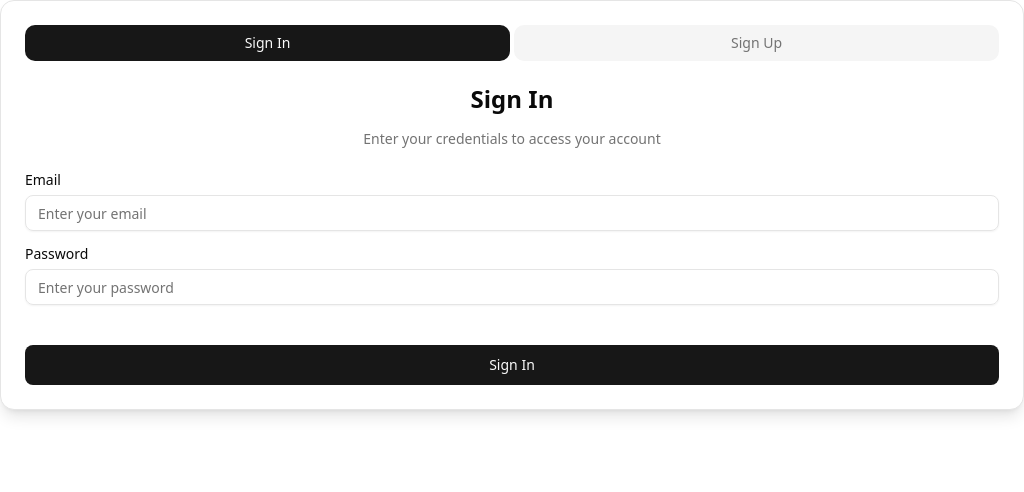
Test: AuthForm › displays validation errors for short password
This screenshot has width=1024, height=492.
Type "123" into the password field labelled "Password" at (512, 287), box [25,269,999,305]
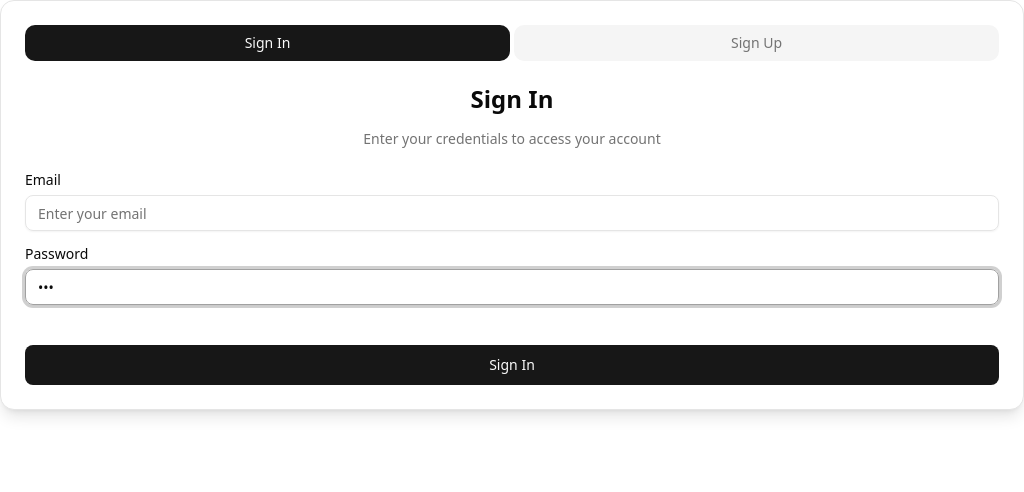
Click the submit button at (512, 365), box [25,345,999,385]
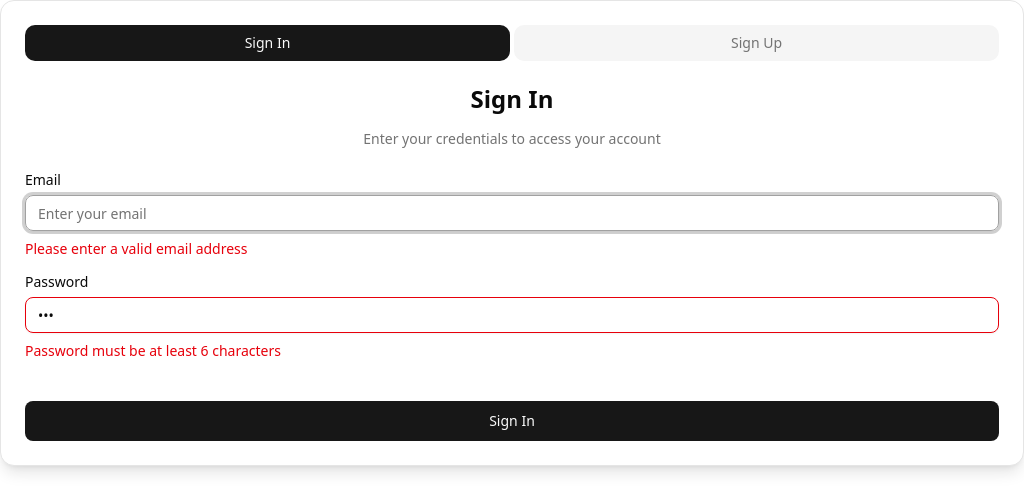
expect the text "Password must be at least 6 characters" is shown: met, box [25,341,281,360]
